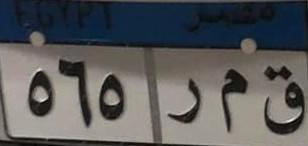5: (95, 69, 136, 124), (21, 61, 55, 123)
6: (57, 59, 92, 128)
meem: (215, 64, 252, 134)
qaaf: (258, 64, 307, 139)
raa: (166, 75, 210, 130)
